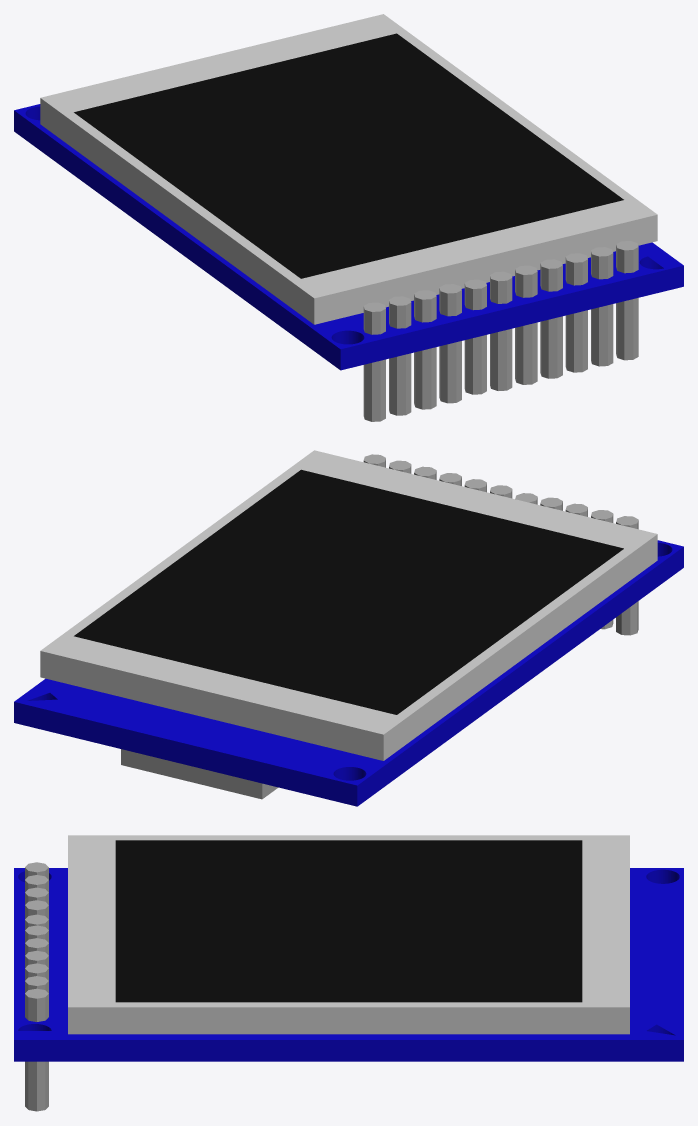
File: 1-8inch_TFT_Color_LCD.fbx
The picture shows the model from 3 angles, top to bottom: view 1: azimuth 30°, elevation 25°; view 2: azimuth 150°, elevation 25°; view 3: azimuth 270°, elevation 25°; orthographic projection. The views are drawn at different scales.
Parts seen in each view (by area): view 1: Screen, ScreenBezel, PCB, pin1, pin2, pin7, pin9, pin0, pin6, pin5, pin3, pin8 (+2 smaller); view 2: Screen, ScreenBezel, PCB, SD_card, pin0; view 3: Screen, ScreenBezel, PCB, piin10.
Boxes of the visible parts, x1,y1,x2,y2 form: Screen: (74,33,623,278); ScreenBezel: (40,14,657,324); PCB: (14,104,683,370); pin1: (389,296,411,415); pin2: (414,290,436,409); pin7: (540,259,562,378); pin9: (591,247,613,366); pin0: (363,302,385,421); pin6: (515,265,537,384); pin5: (490,271,512,390); pin3: (439,284,461,403); pin8: (565,253,587,372); Screen: (74,469,623,714); ScreenBezel: (40,450,657,760); PCB: (14,540,683,806); SD_card: (121,749,278,799); pin0: (616,516,638,635); Screen: (115,840,582,1002); ScreenBezel: (68,835,629,1034); PCB: (14,868,683,1061); piin10: (25,988,48,1111).
Size of the model in its own units: 340 by 113 by 560.
